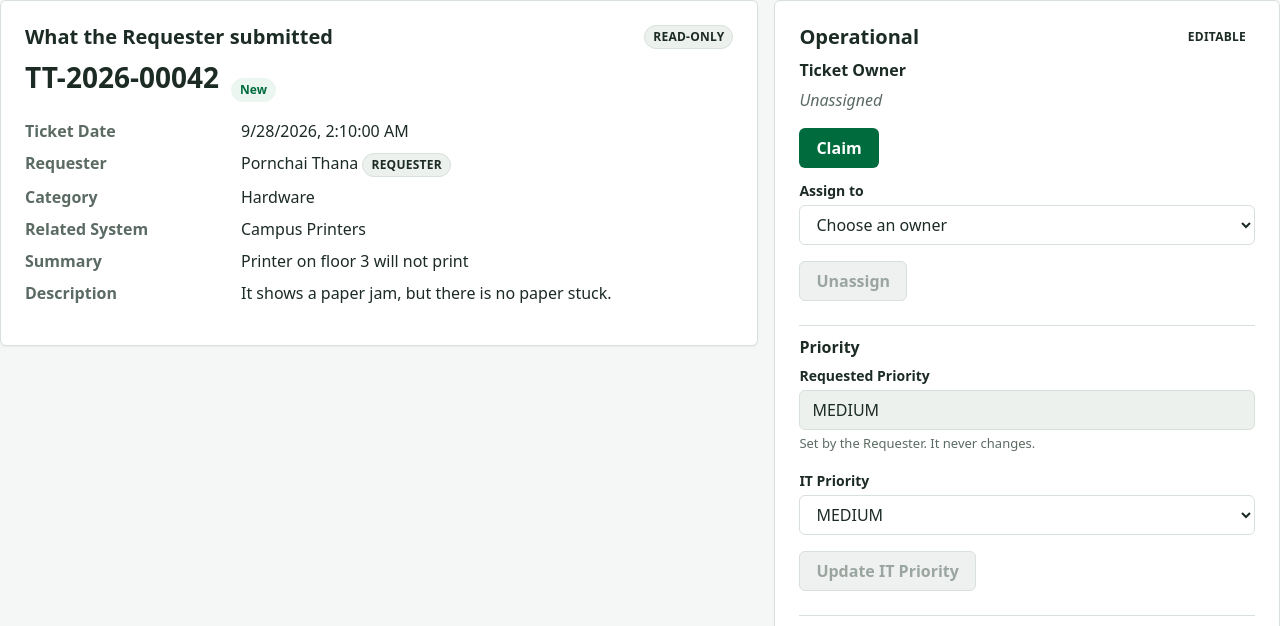
Scenario: UI-15 Claim (AC-22) › explains a lost claim race and shows who owns the ticket now (AC-23)
Expected: the heading "TT-2026-00042" is shown, [25,61,219,95]
Click the button "Claim". click: [839, 148]
box: [799,128,879,168]
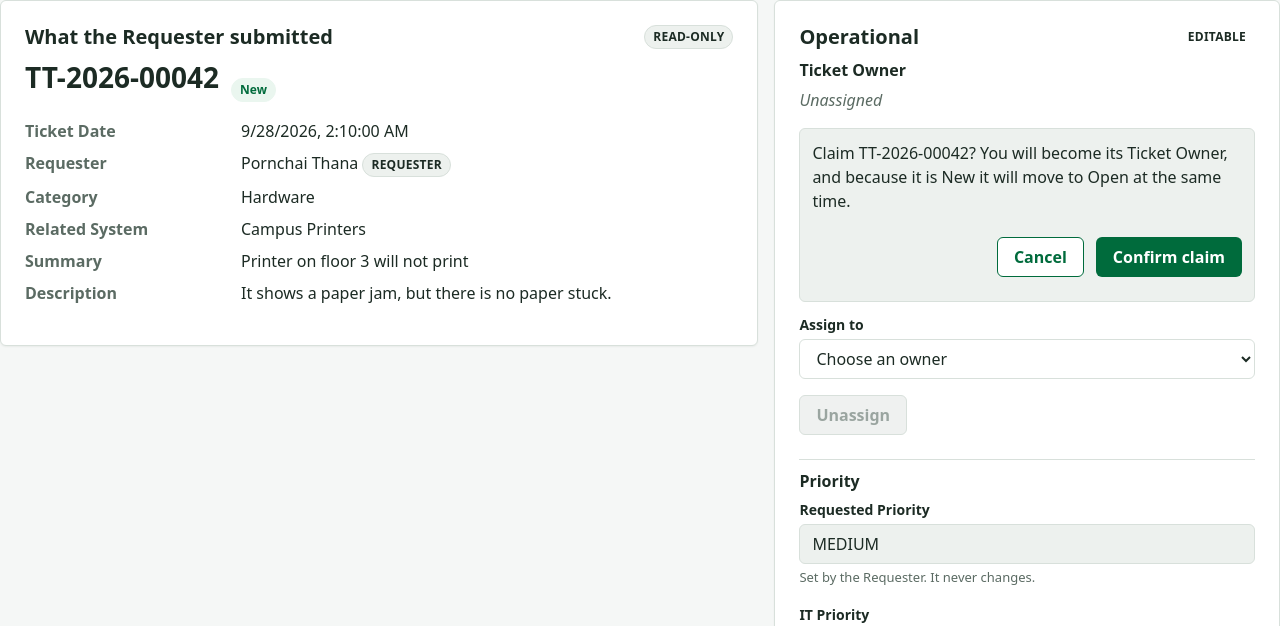
Click the button "Confirm claim". click: [1169, 257]
box: [1096,237,1242,277]
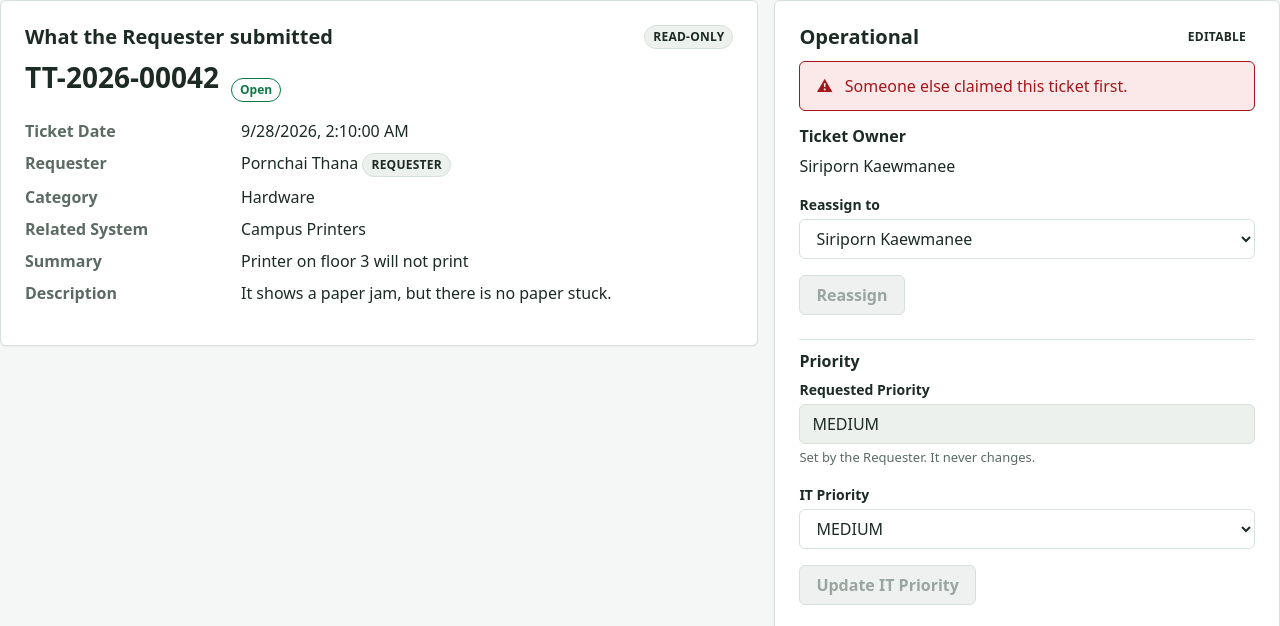
Now the message shows "Someone else claimed this ticket first.", box [845,75,1128,97]
Now the text "Siriporn Kaewmanee" is shown, box [799,154,955,178]
